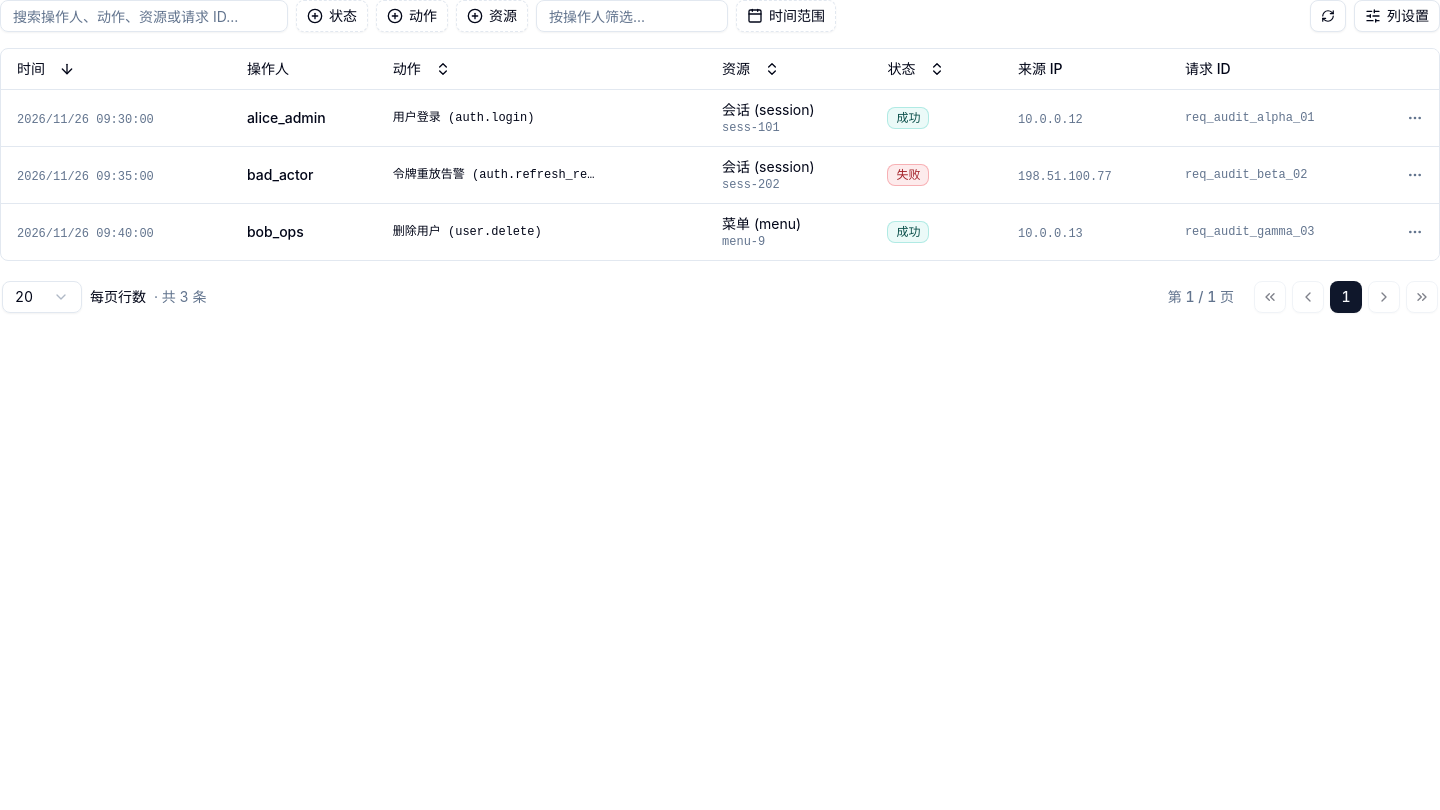
Test: audit-logs feature › renders rows, opens detail sheet on row click, and stops propagation on row menu
This screenshot has width=1440, height=810.
expect the text "alice_admin" is shown: met, box [247, 108, 326, 126]
expect the text "bad_actor" is shown: met, box [247, 166, 313, 182]
Click the button named "打开操作菜单" in the row of "2026/11/26 09:30:00".
click(1415, 118)  # box [1401, 104, 1429, 132]
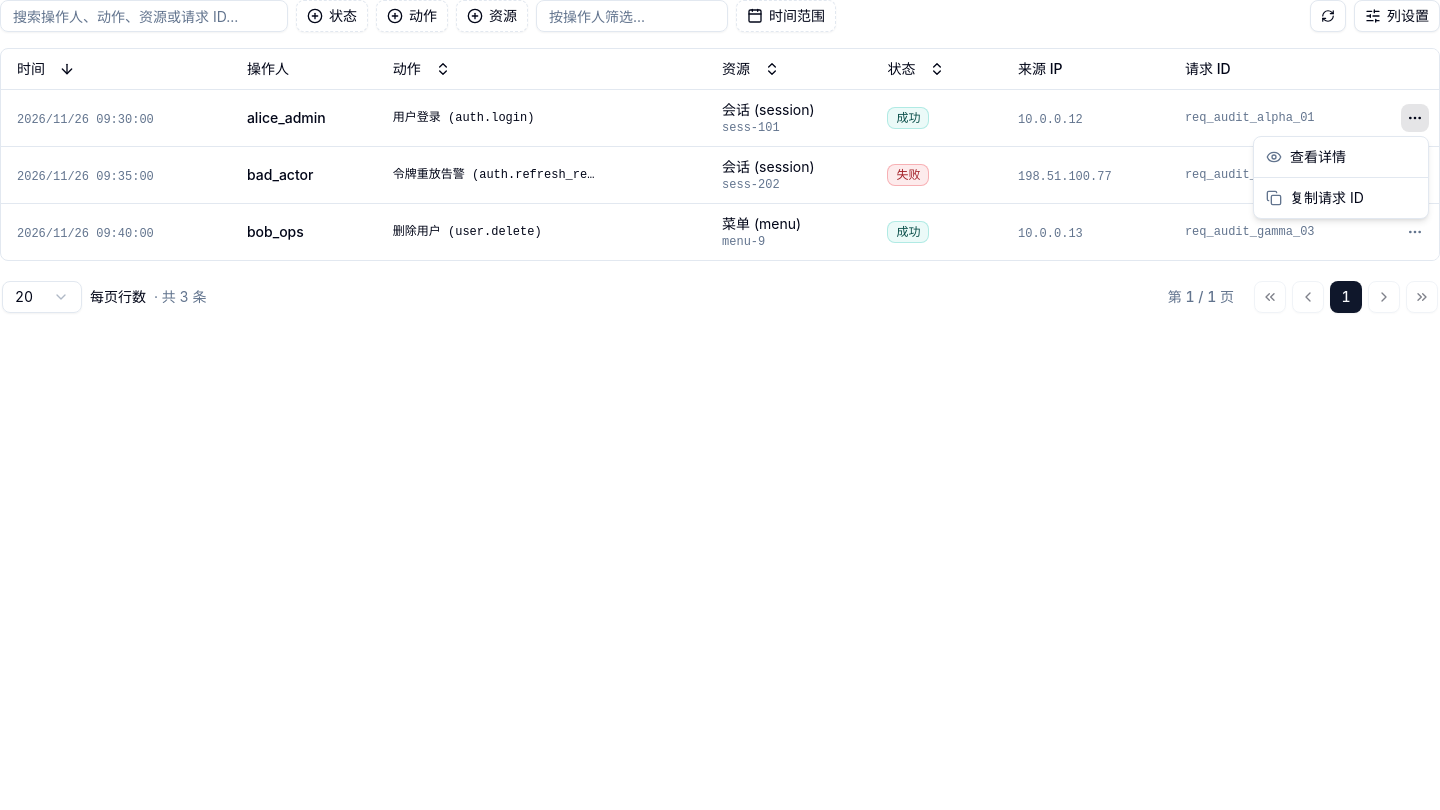
expect the menu item "查看详情" is shown: met
Click the menu item "查看详情".
click(1306, 156)  # box [1266, 148, 1346, 165]
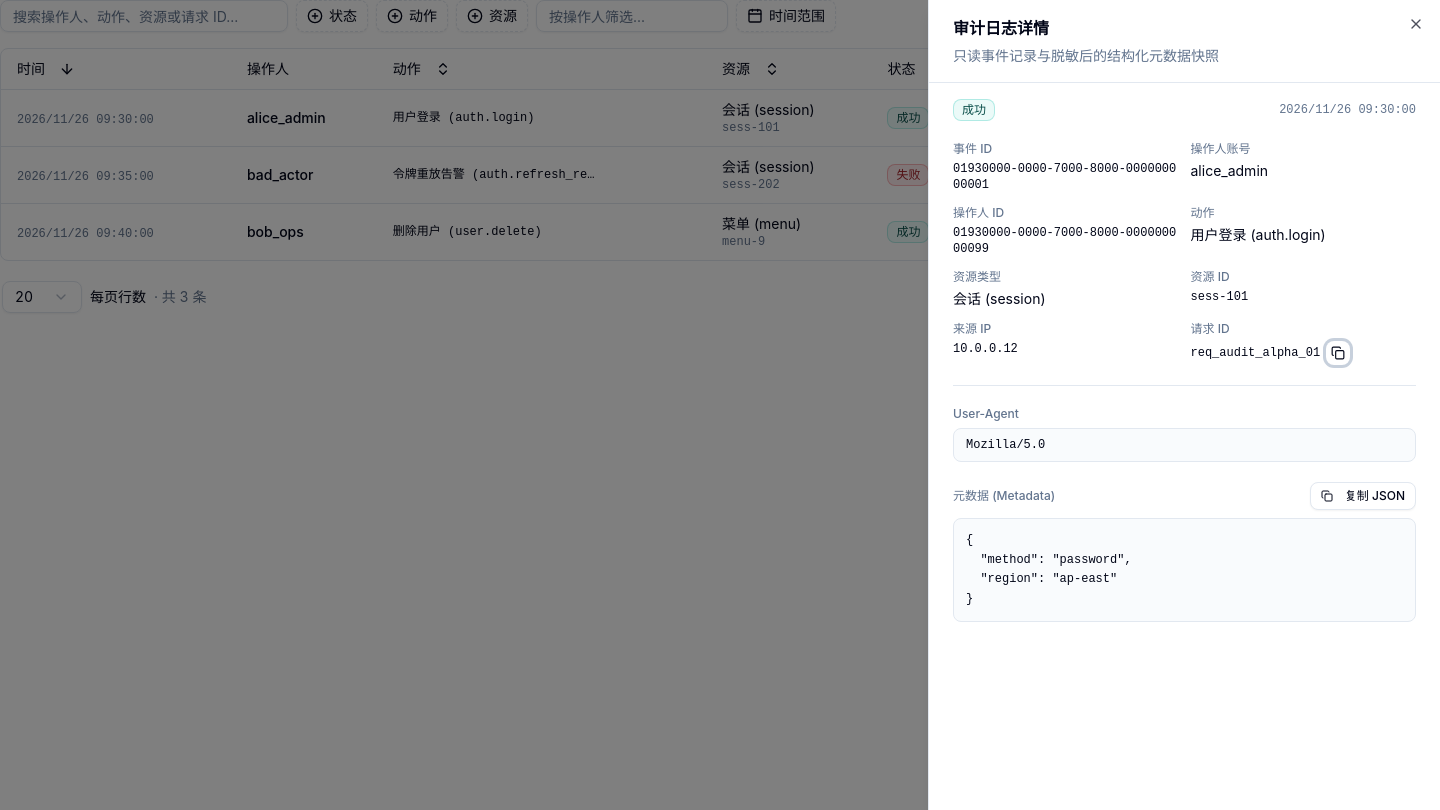
expect the dialog is shown: met, box [928, 0, 1439, 809]
expect the dialog shows "req_audit_alpha_01": met, box [1190, 346, 1320, 360]
expect the dialog shows "\"region\": \"ap-east\"": met, box [966, 533, 1132, 606]
